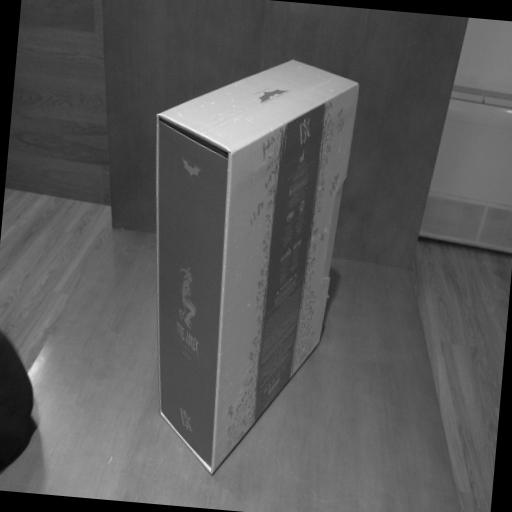Joker: (125, 46, 361, 487)
